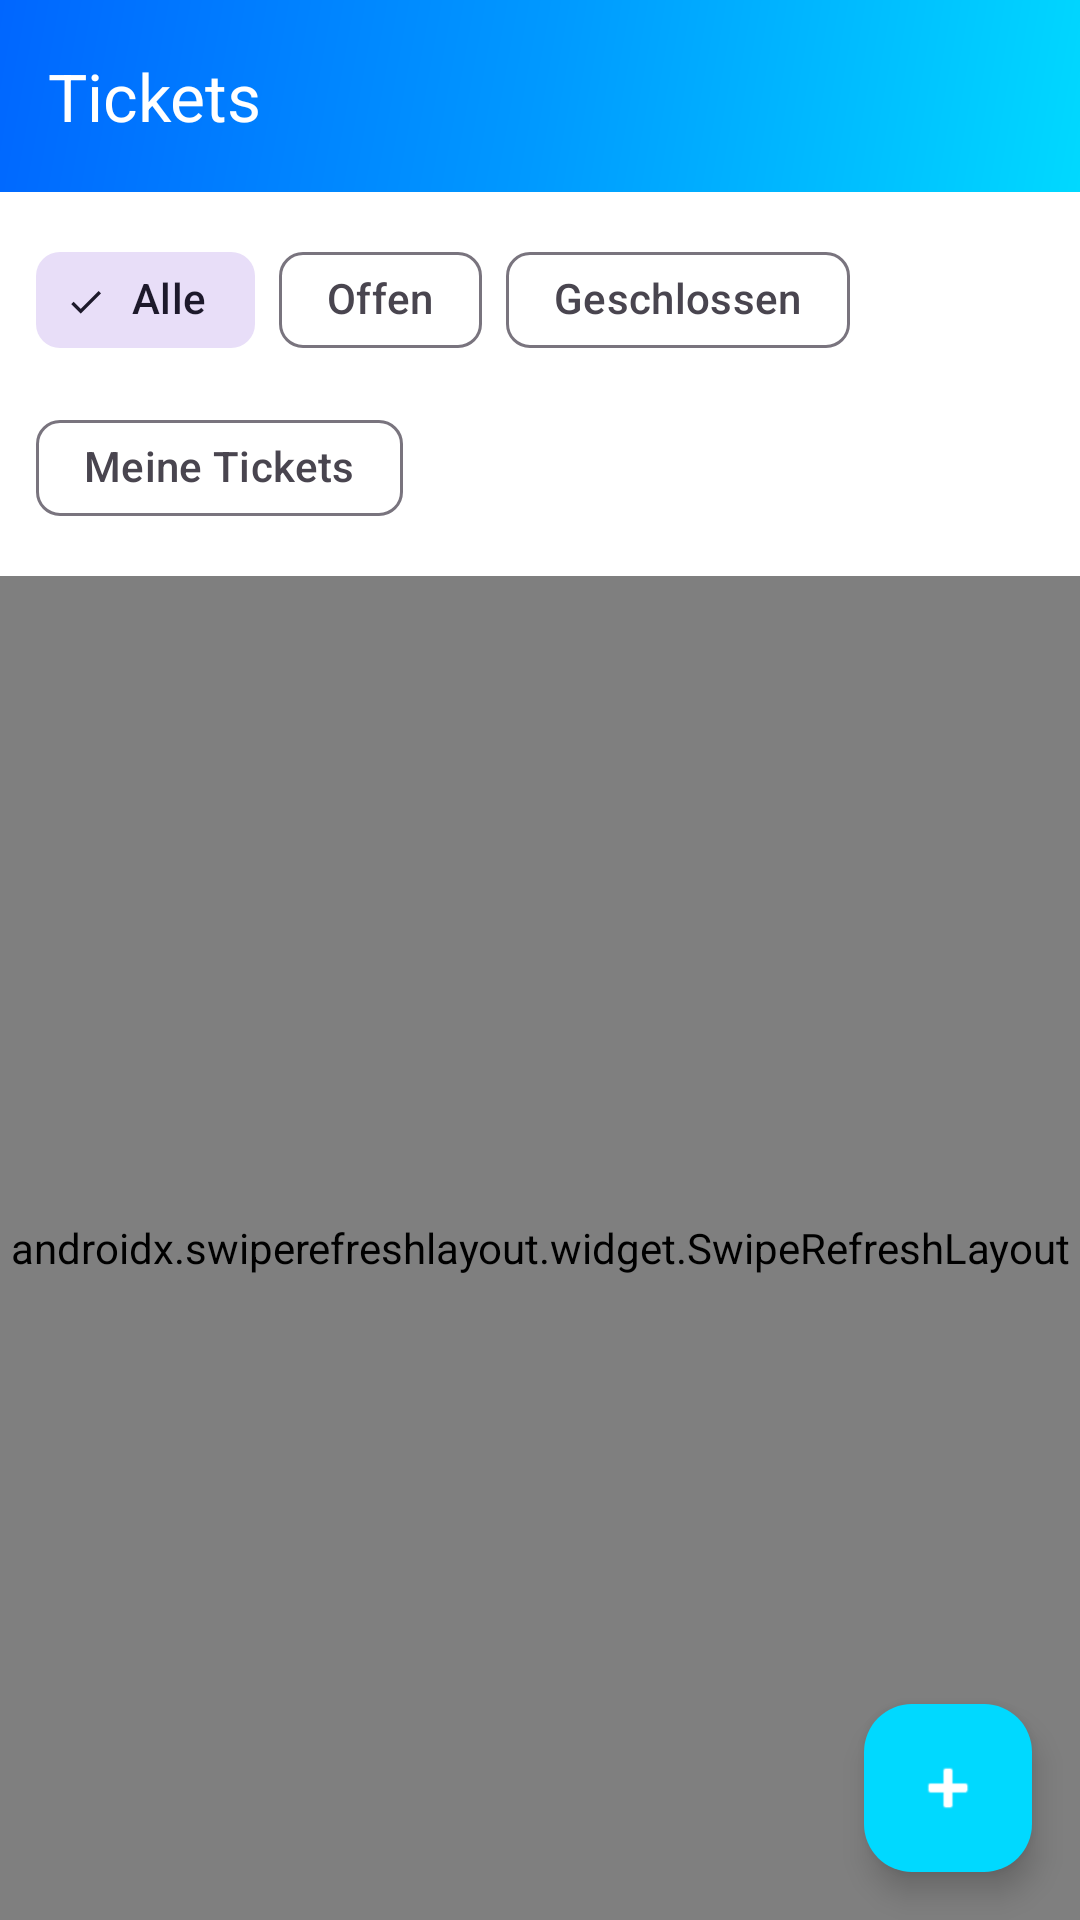

Icon click points for this 1080×1920 phone screenshot, format (x,y):
Neues Ticket erstellen: (948,1788)
